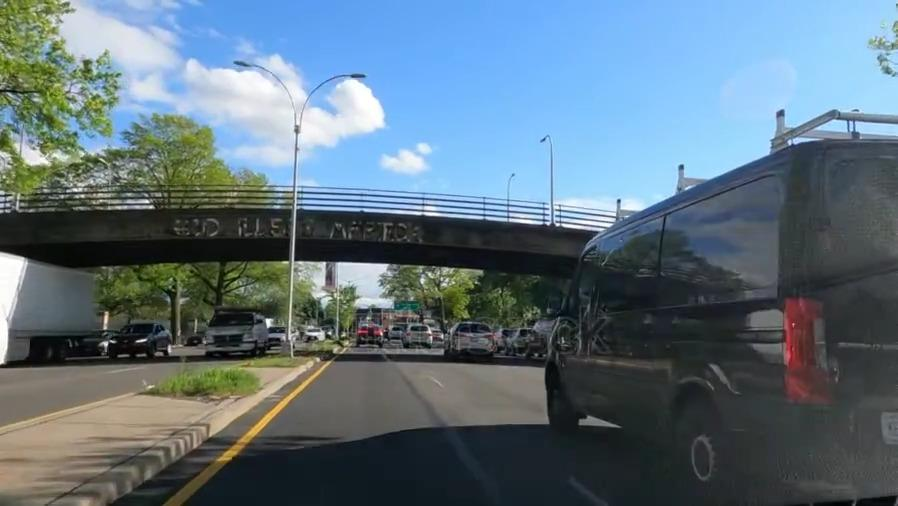car: (111, 323, 178, 358), (449, 319, 491, 358), (357, 321, 383, 351), (408, 320, 431, 351), (87, 331, 111, 353), (267, 324, 288, 346)
van: (549, 220, 898, 486), (199, 311, 268, 354)
wheel: (660, 401, 741, 492), (540, 373, 578, 422)
